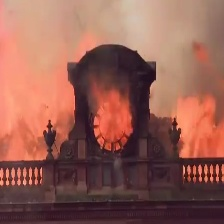smoke: (1, 5, 117, 146), (91, 72, 140, 144), (177, 95, 224, 157)
